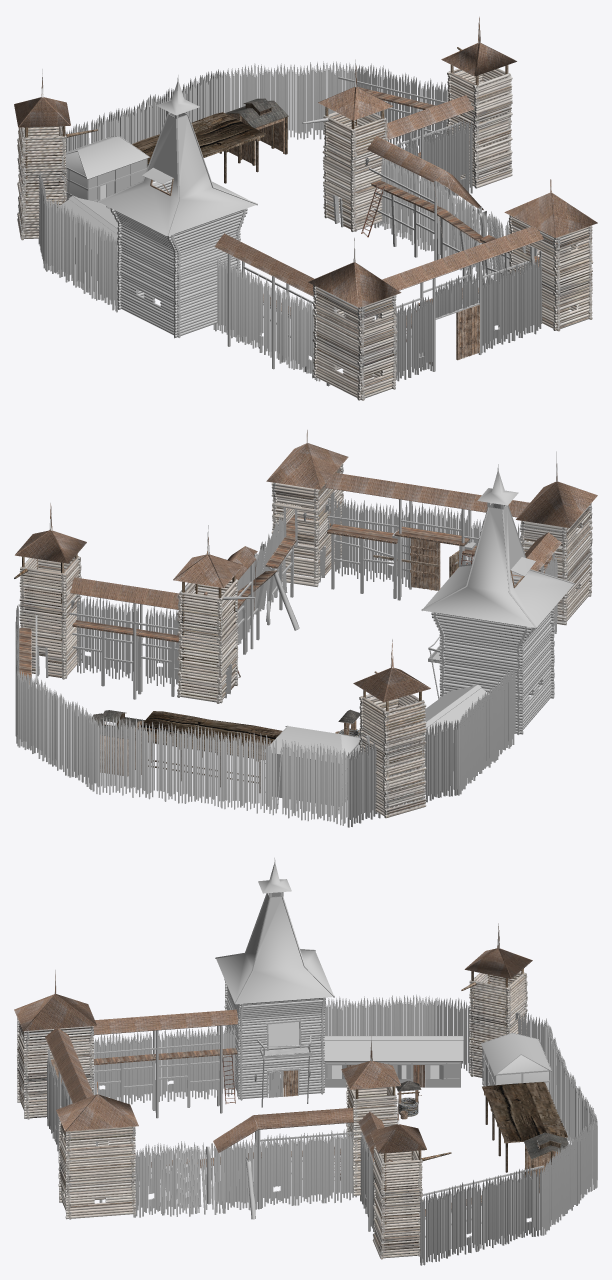
File: Wooden City.fbx
3 renders of one model, top to bottom at view 1: azimuth 30°, elevation 25°; view 2: azimuth 150°, elevation 25°; view 3: azimuth 270°, elevation 25°, orthographic. The views are drawn at different scales.
Parts seen in each view (by area): view 1: WoodenCastle; view 2: WoodenCastle; view 3: WoodenCastle.
Boxes of the visible parts, x1,y1,x2,y2 form: WoodenCastle: (14,17,597,400); WoodenCastle: (14,430,597,827); WoodenCastle: (14,858,597,1265).
Bounding box in the file's own units: 3817 × 2053 × 4529.
